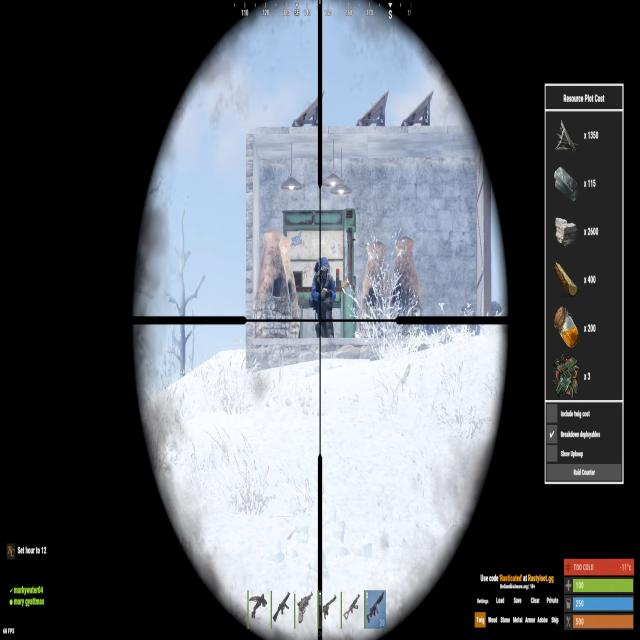Player: (311, 254, 337, 338)
